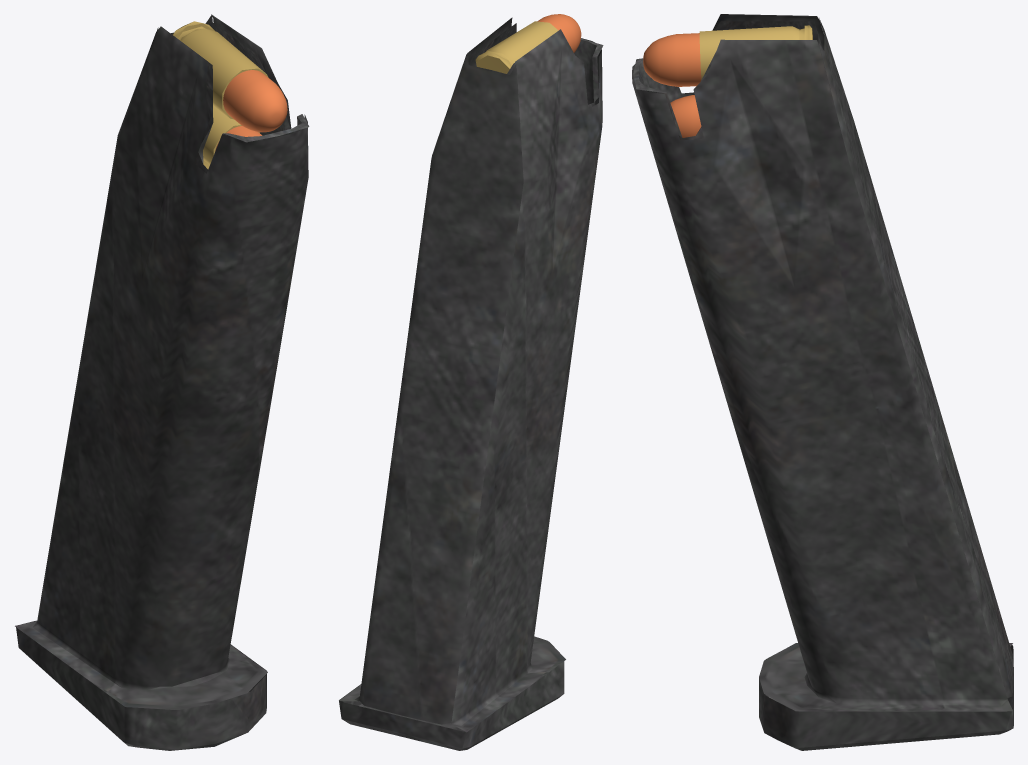
File: SK_ZP_M9_Magazine_Full.fbx
3 views of the same model, side by side, from view 1: azimuth 30°, elevation 25°; view 2: azimuth 150°, elevation 25°; view 3: azimuth 270°, elevation 25° (orthographic). The views are drawn at different scales.
Parts seen in each view (by area): view 1: 9mm LUGER.003; view 2: 9mm LUGER.003; view 3: 9mm LUGER.003.
Boxes of the visible parts, x1,y1,x2,y2 form: 9mm LUGER.003: (15,14,309,750); 9mm LUGER.003: (339,14,603,750); 9mm LUGER.003: (632,14,1013,750).
Size of the model in its own units: 2.62 by 12.34 by 6.14.
